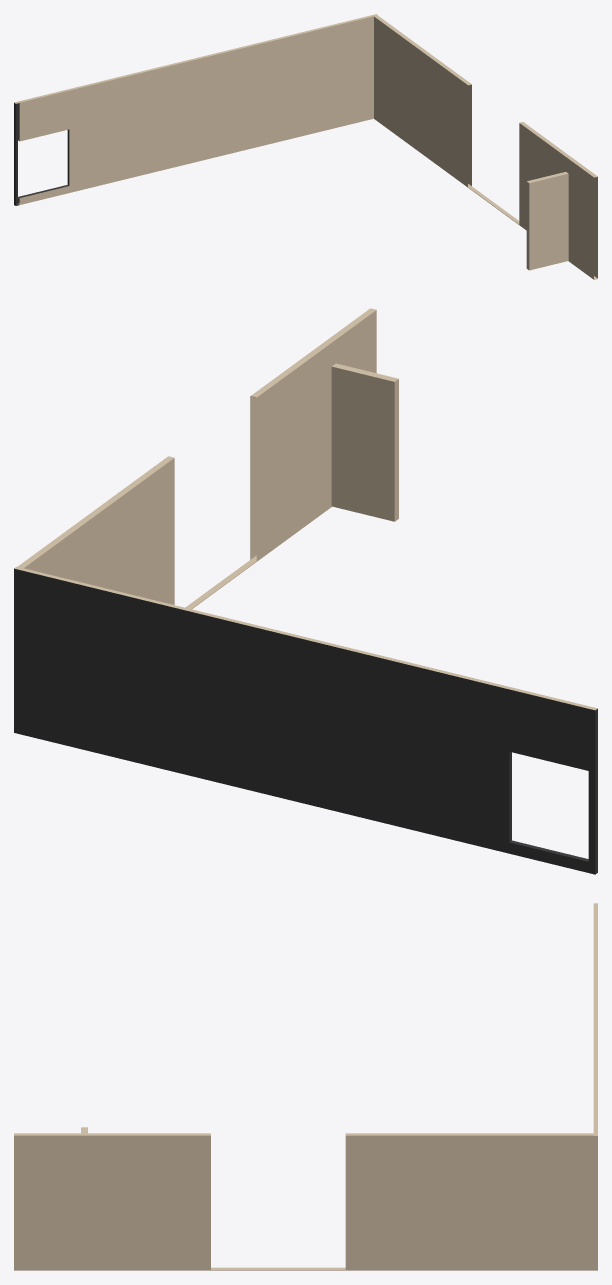
Rendered from Side_Walls.fbx.
3 renders of one model, top to bottom at view 1: azimuth 30°, elevation 25°; view 2: azimuth 150°, elevation 25°; view 3: azimuth 270°, elevation 25°, orthographic. The views are drawn at different scales.
Parts seen in each view (by area): view 1: Cube.009, Cube.005; view 2: Cube.009, Cube.005; view 3: Cube.009.
Boxes of the visible parts, x1,y1,x2,y2 form: Cube.009: (14,14,597,279); Cube.005: (526,172,568,270); Cube.009: (14,308,597,874); Cube.005: (331,363,398,521); Cube.009: (14,903,597,1270).
Bounding box in the file's own units: 1916 × 517 × 2031.
